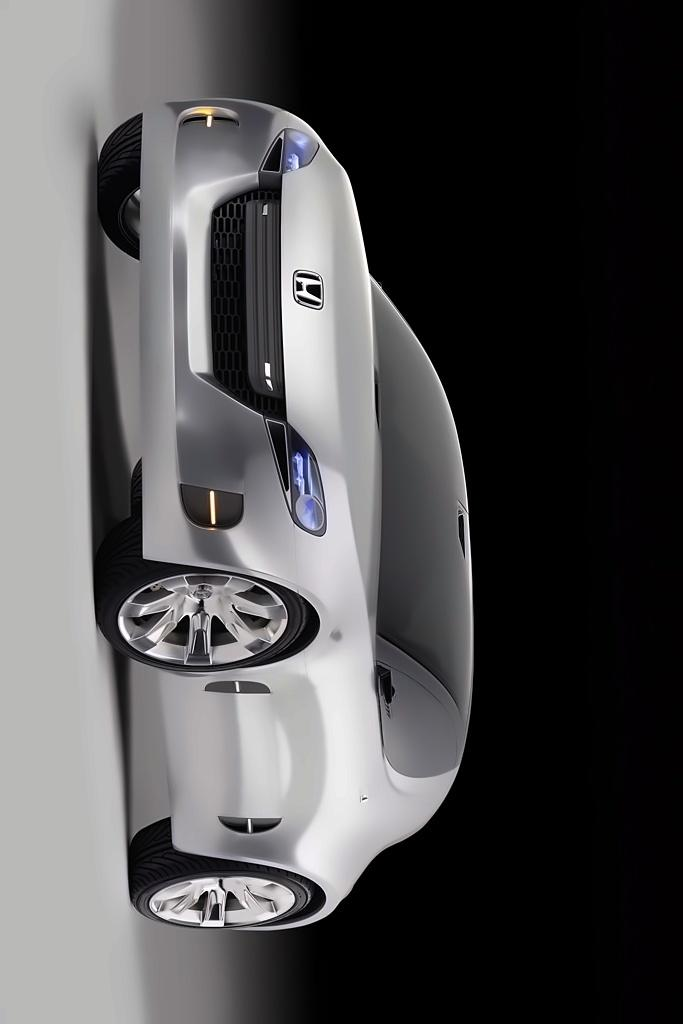Car hood: (274, 107, 388, 609)
Fender - -F-L-: (129, 524, 392, 669)
Fender - -R-L-: (197, 840, 379, 925)
Front bumper: (130, 82, 280, 592)
Headlight - -L-: (260, 410, 339, 539)
Headlight - -R-: (254, 115, 335, 183)
Passenger-s door - -F-L-: (154, 652, 473, 809)
Side bumper - -L-: (115, 649, 188, 850)
Side mirror - -L-: (355, 652, 421, 729)
